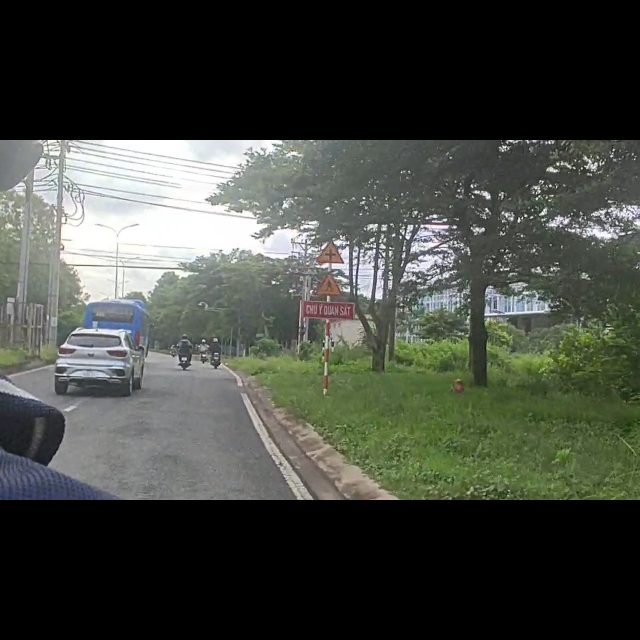bien_nguy_hiem: (314, 175, 347, 222), (315, 233, 347, 277)
